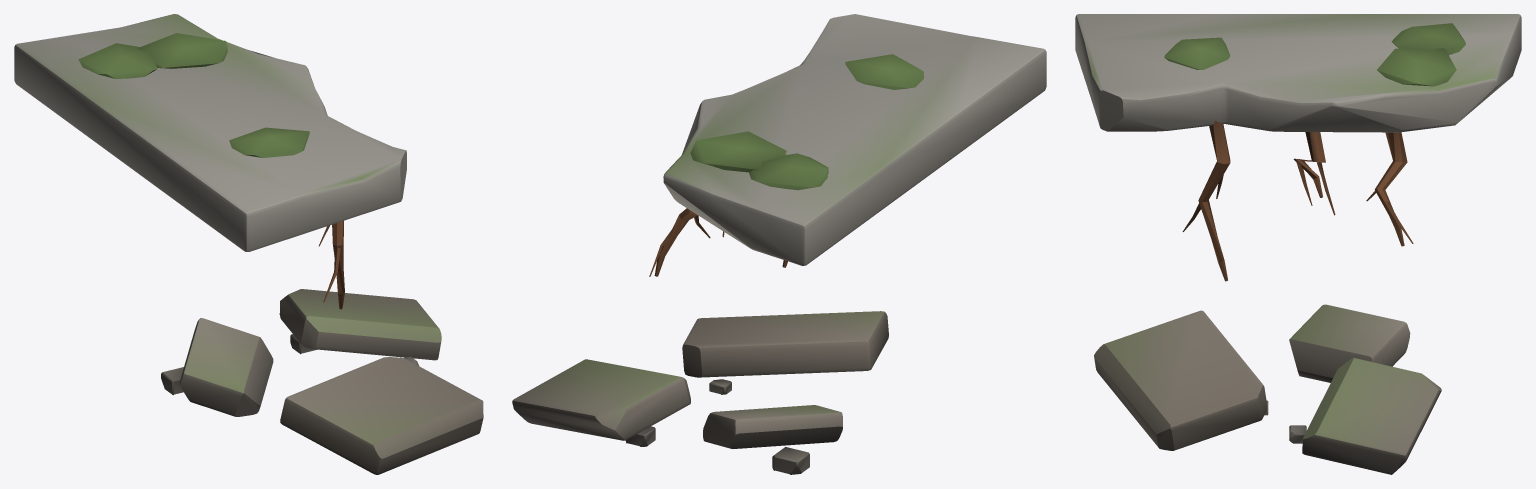
The model's file is ruins-collapse.glb.
The picture shows the model from 3 angles, left to right: view 1: azimuth 30°, elevation 25°; view 2: azimuth 150°, elevation 25°; view 3: azimuth 270°, elevation 25°; orthographic projection. The views are drawn at different scales.
Parts seen in each view (by area): view 1: 0_ruins_collapse; view 2: 0_ruins_collapse; view 3: 0_ruins_collapse.
Boxes of the visible parts, x1=… form: 0_ruins_collapse: x1=14, y1=14, x2=483, y2=474; 0_ruins_collapse: x1=512, y1=14, x2=1046, y2=474; 0_ruins_collapse: x1=1075, y1=14, x2=1521, y2=474.
Size of the model in its own units: 2.79 by 2.55 by 3.29.
